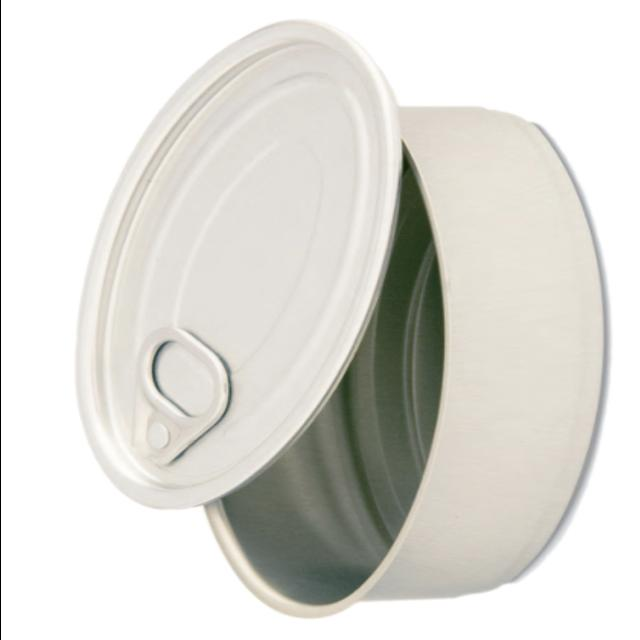can: (78, 10, 614, 622)
